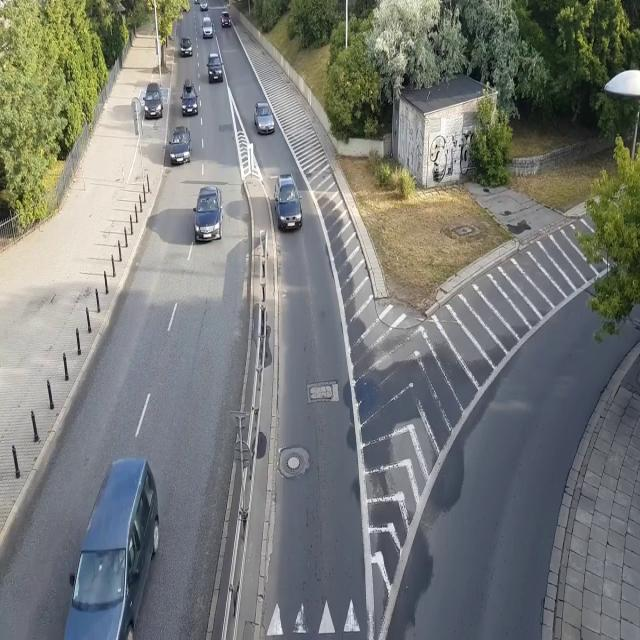car: (193, 184, 224, 242), (274, 173, 304, 231), (168, 125, 192, 165), (143, 82, 163, 120), (180, 77, 198, 117), (254, 101, 275, 134), (180, 36, 193, 59), (220, 10, 231, 28), (200, 0, 208, 12)
van: (63, 456, 158, 640), (206, 52, 224, 83), (201, 16, 214, 40)
